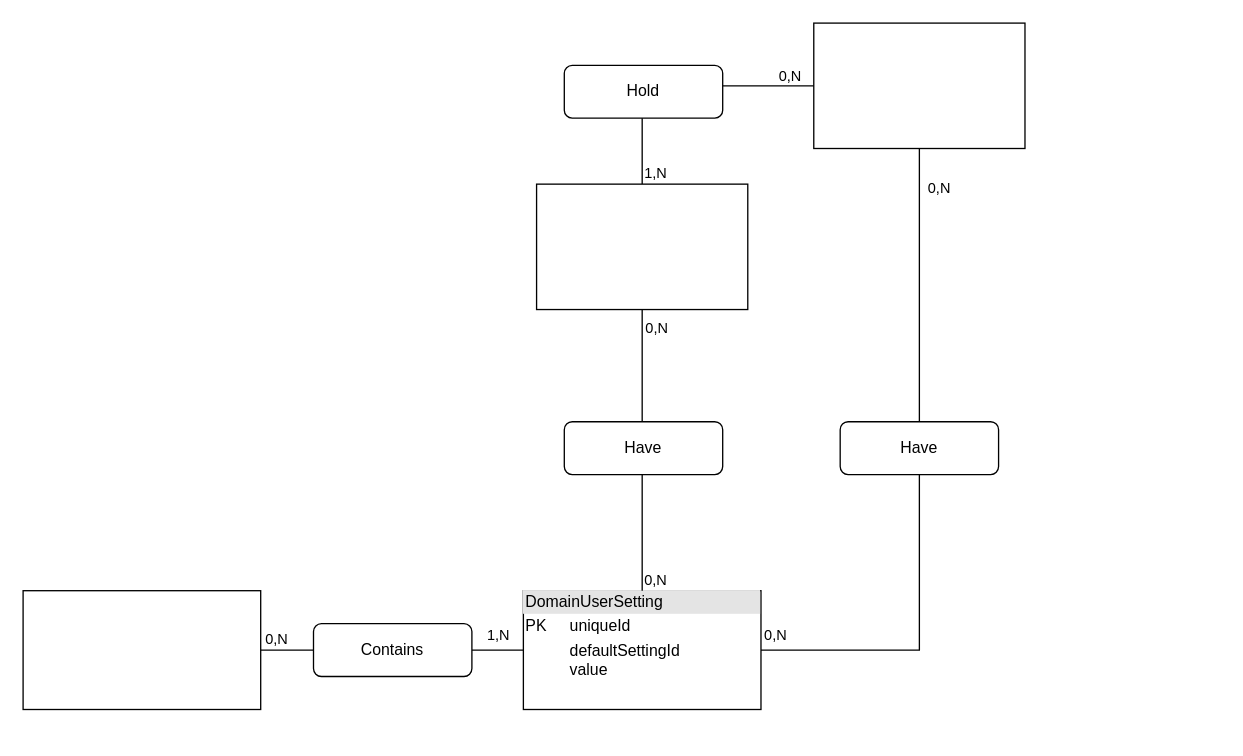
The diagram is 1243 pixels wide and 756 high, and some of its shapes have lost their labels. Each missing label, with the centre of its shape:
"DefaultSetting PK uniqueId name value settingsIds" belongs at point (141, 649).
"Domain PK domainName FK settingIds FK userIds" belongs at point (641, 246).
"User PK email FK domainIds FK settingIds" belongs at point (918, 85).
